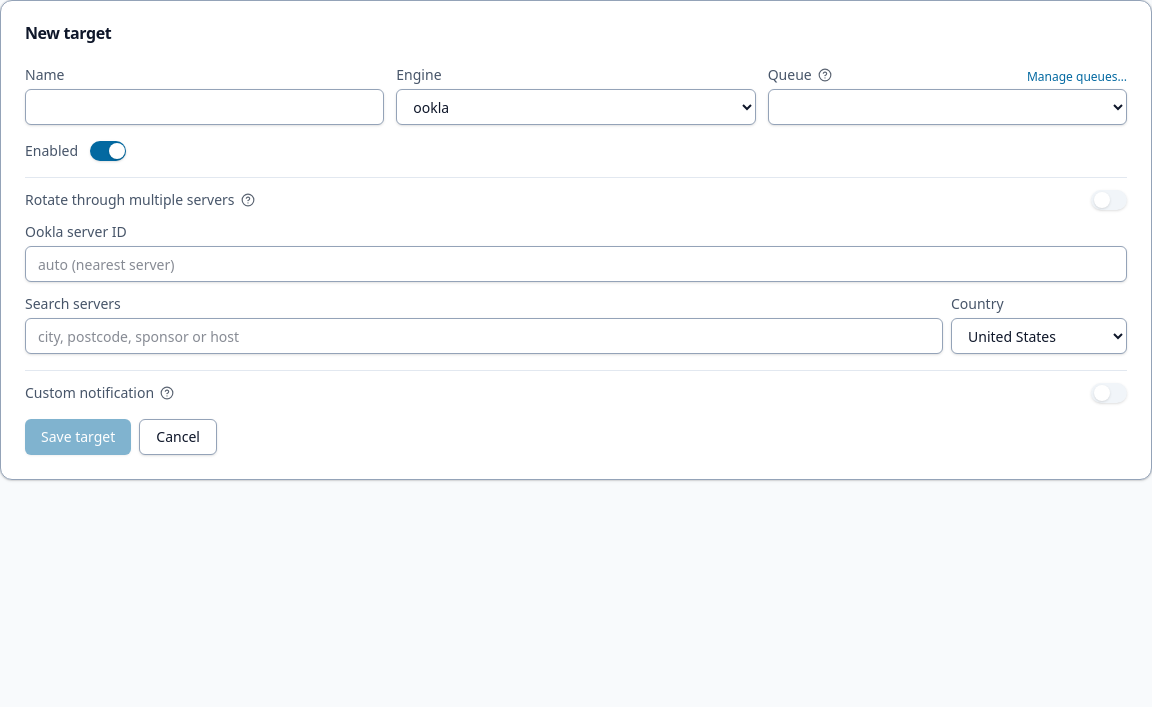
TargetForm › only enables udp bitrate when protocol is udp, and disables bidir for udp
The width and height of the screenshot is (1152, 707).
Step 1. Select "iperf3" in the dropdown labelled "Engine" → (576, 107), box [396,89,756,125]
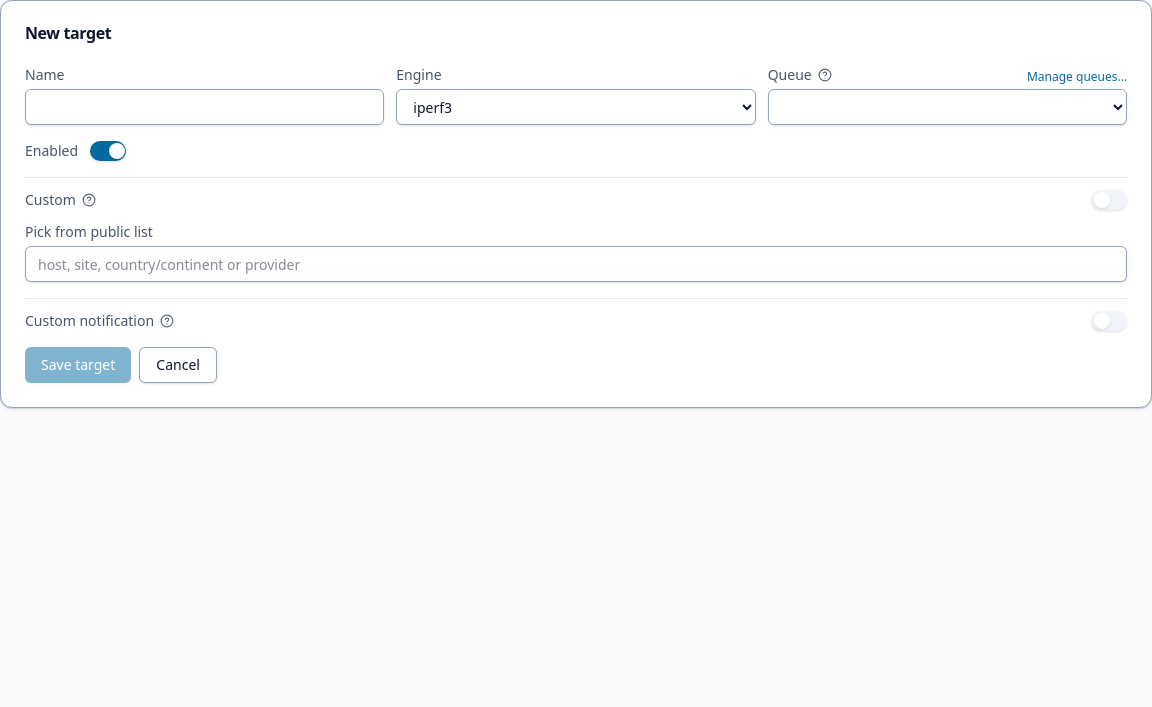
Step 2. Click the 2nd switch named "Custom" → (1109, 200), box [1091,190,1127,210]
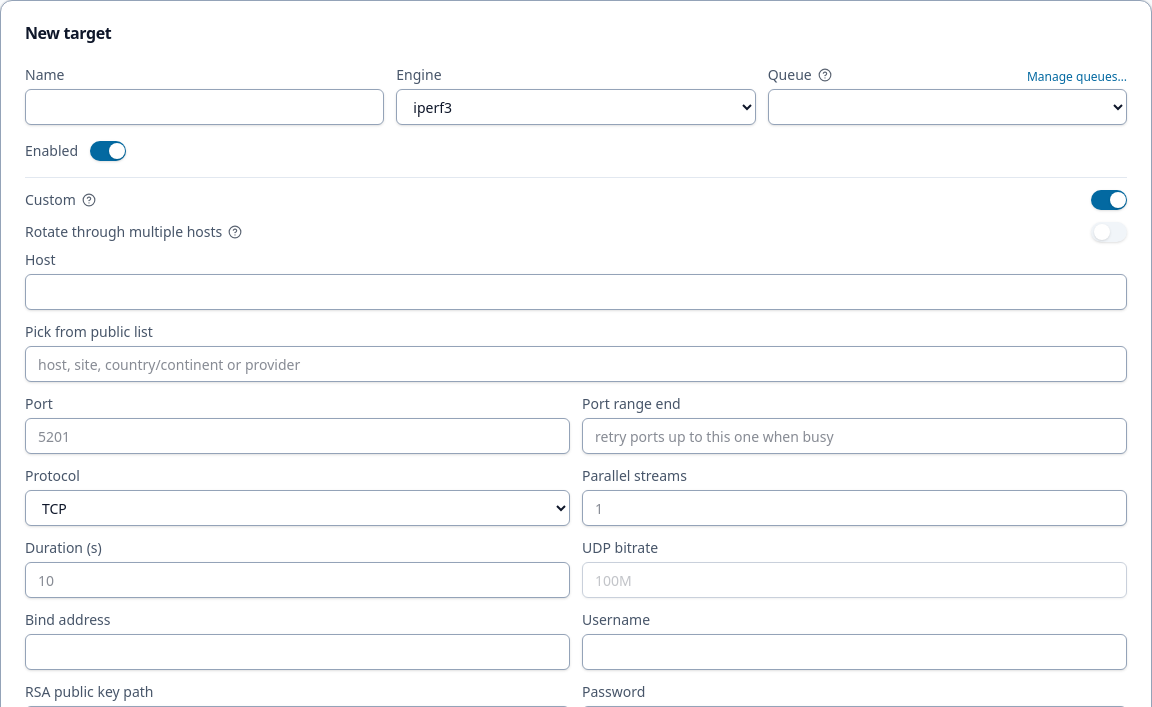
Result: the field labelled "UDP bitrate" is disabled at [582,562,1127,598]
Step 3. Select "UDP" in the dropdown labelled "Protocol" → (298, 508), box [25,490,570,526]
(page scrolled)
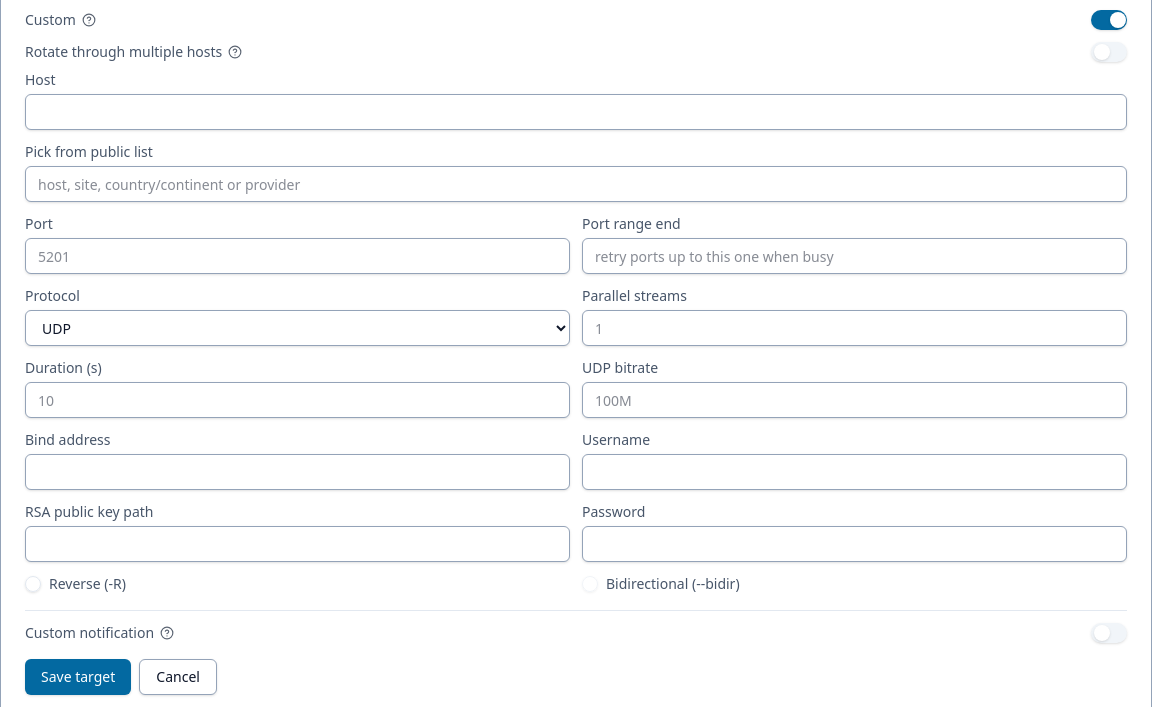
Result: the field labelled "UDP bitrate" is enabled at [582,382,1127,418]
